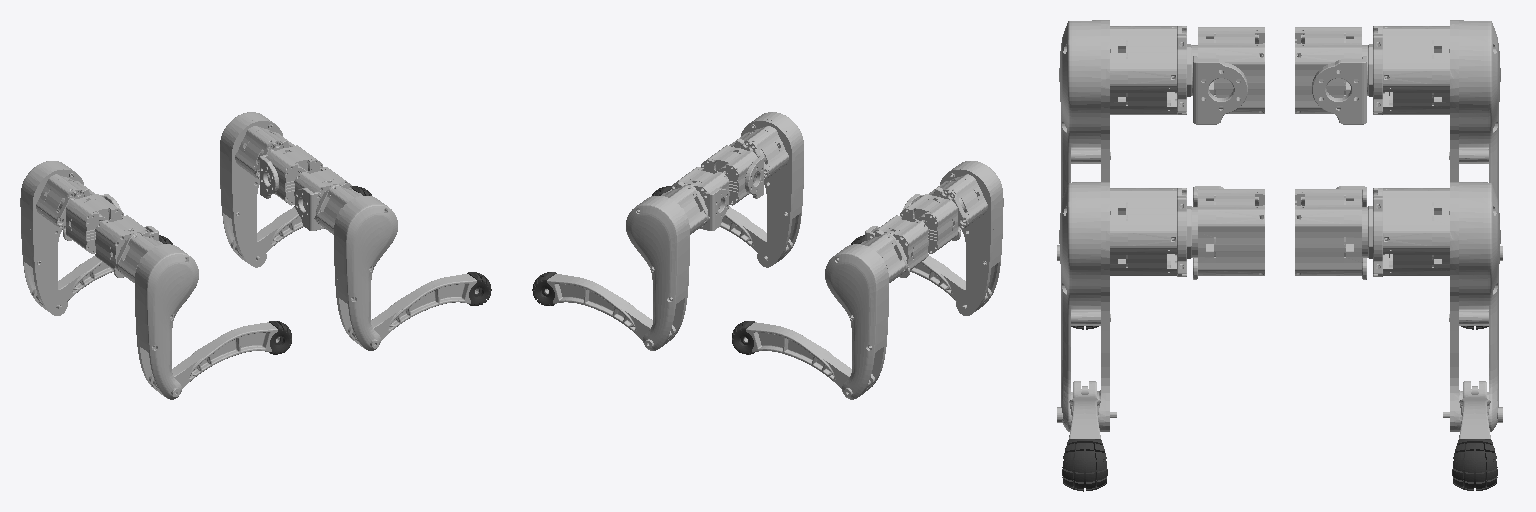
The robot description file, URDF, robot "HTDW_4438":
<?xml version="1.0" encoding="utf-8"?>
 <!-- This URDF was automatically created by SolidWorks to URDF Exporter! Originally created by Stephen Brawner (brawner@gmail.com) 
      Commit Version: 1.6.0-4-g7f85cfe  Build Version: 1.6.7995.38578
      For more information, please see http://wiki.ros.org/sw_urdf_exporter -->
 <robot name="HTDW_4438">
  <mujoco>
    <compiler meshdir="../meshes/" balanceinertia="true" discardvisual="false" />
  </mujoco>

   <link name="base_link">
     <inertial>
       <origin xyz="-0.00150909 -0.00098889 0.00305206" rpy="0 0 0" />
       <mass value="2.38259971" />
       <inertia ixx="0.00432585" ixy="-1.251e-05" ixz="0.00022699" iyy="0.00844472" iyz="2.196e-05" izz="0.00822046" />
     </inertial>
     <visual>
       <origin xyz="0 0 0" rpy="0 0 0" />
       <geometry>
         <mesh filename="../meshes/base_link.STL" />
       </geometry>
       <material name="">
         <color rgba="0.752941176470588 0.752941176470588 0.752941176470588 1" />
       </material>
     </visual>
     <collision>
       <origin xyz="0 0 0" rpy="0 0 0" />
       <geometry>
         <mesh filename="../meshes/base_link.STL" />
       </geometry>
     </collision>
   </link>
   <link name="FL_hip">
     <inertial>
       <origin xyz="-0.00110429 -9.855e-05 -0.000137" rpy="0 0 0" />
       <mass value="0.25169471" />
       <inertia ixx="3.845e-05" ixy="1.34e-06" ixz="-2.6e-07" iyy="4.547e-05" iyz="9.6e-07" izz="4.418e-05" />
     </inertial>
     <visual>
       <origin xyz="0 0 0" rpy="0 0 0" />
       <geometry>
         <mesh filename="../meshes/FL_hip.STL" />
       </geometry>
       <material name="">
         <color rgba="0.752941176470588 0.752941176470588 0.752941176470588 1" />
       </material>
     </visual>
     <collision>
       <origin xyz="0 0 0" rpy="0 0 0" />
       <geometry>
         <mesh filename="../meshes/FL_hip.STL" />
       </geometry>
     </collision>
   </link>
   <joint name="FL_hip_joint" type="revolute">
     <origin xyz="0.11415 0.035 -0.0085" rpy="0 0 0" />
     <parent link="base_link" />
     <child link="FL_hip" />
     <axis xyz="1 0 0" />
     <limit lower="-1.05" upper="1.05" effort="10" velocity="9.5" />
   </joint>
   <link name="FL_thigh">
     <inertial>
       <origin xyz="-0.00114943 -0.02533574 -0.0099421" rpy="0 0 0" />
       <mass value="0.34225574" />
       <inertia ixx="0.00044342" ixy="7.17e-06" ixz="-1.819e-05" iyy="0.0003823" iyz="8.294e-05" izz="0.00013666" />
     </inertial>
     <visual>
       <origin xyz="0 0 0" rpy="0 0 0" />
       <geometry>
         <mesh filename="../meshes/FL_thigh.STL" />
       </geometry>
       <material name="">
         <color rgba="0.752941176470588 0.752941176470588 0.752941176470588 1" />
       </material>
     </visual>
     <collision>
       <origin xyz="0 0 0" rpy="0 0 0" />
       <geometry>
         <mesh filename="../meshes/FL_thigh.STL" />
       </geometry>
     </collision>
   </link>
   <joint name="FL_thigh_joint" type="revolute">
     <origin xyz="0 0.0812 0" rpy="0 0 0" />
     <parent link="FL_hip" />
     <child link="FL_thigh" />
     <axis xyz="0 1 0" />
     <limit lower="-1.57" upper="3.49" effort="10" velocity="9.5" />
   </joint>
   <link name="FL_calf">
     <inertial>
       <origin xyz="0.00873361 1.881e-05 -0.05124231" rpy="0 0 0" />
       <mass value="0.03063479" />
       <inertia ixx="6.529e-05" ixy="0.0" ixz="9.5e-07" iyy="6.662e-05" iyz="-4e-08" izz="2.3e-06" />
     </inertial>
     <visual>
       <origin xyz="0 0 0" rpy="0 0 0" />
       <geometry>
         <mesh filename="../meshes/FL_calf.STL" />
       </geometry>
       <material name="">
         <color rgba="0.752941176470588 0.752941176470588 0.752941176470588 1" />
       </material>
     </visual>
     <collision>
       <origin xyz="0 0 0" rpy="0 0 0" />
       <geometry>
         <mesh filename="../meshes/FL_calf.STL" />
       </geometry>
     </collision>
   </link>
   <joint name="FL_calf_joint" type="revolute">
     <origin xyz="0 0 -0.12" rpy="0 0 0" />
     <parent link="FL_thigh" />
     <child link="FL_calf" />
     <axis xyz="0 1 0" />
     <limit lower="-2.71" upper="-0.84" effort="10" velocity="9.5" />
   </joint>
   <link name="FL_foot">
     <inertial>
       <origin xyz="-0.00180864 0.0 -0.00401616" rpy="0 0 0" />
       <mass value="0.00959044" />
       <inertia ixx="8.2e-07" ixy="0.0" ixz="1.4e-07" iyy="1.06e-06" iyz="0.0" izz="1.03e-06" />
     </inertial>
     <visual>
       <origin xyz="0 0 0" rpy="0 0 0" />
       <geometry>
         <mesh filename="../meshes/FL_foot.STL" />
       </geometry>
       <material name="">
         <color rgba="0.298039215686275 0.298039215686275 0.298039215686275 1" />
       </material>
     </visual>
     <collision>
       <origin xyz="0 0 0" rpy="0 0 0" />
       <geometry>
         <sphere radius="0.01675"/>
       </geometry>
     </collision>
   </link>
   <joint name="FL_foot_joint" type="fixed">
     <origin xyz="0 0 -0.12516" rpy="0 0 0" />
     <parent link="FL_calf" />
     <child link="FL_foot" />
     <axis xyz="0 0 0" />
   </joint>
   <link name="FR_hip">
     <inertial>
       <origin xyz="-0.00127689 9.855e-05 -0.000137" rpy="0 0 0" />
       <mass value="0.25169471" />
       <inertia ixx="3.845e-05" ixy="-1.26e-06" ixz="-6.3e-07" iyy="4.536e-05" iyz="-9.6e-07" izz="4.408e-05" />
     </inertial>
     <visual>
       <origin xyz="0 0 0" rpy="0 0 0" />
       <geometry>
         <mesh filename="../meshes/FR_hip.STL" />
       </geometry>
       <material name="">
         <color rgba="0.752941176470588 0.752941176470588 0.752941176470588 1" />
       </material>
     </visual>
     <collision>
       <origin xyz="0 0 0" rpy="0 0 0" />
       <geometry>
         <mesh filename="../meshes/FR_hip.STL" />
       </geometry>
     </collision>
   </link>
   <joint name="FR_hip_joint" type="revolute">
     <origin xyz="0.11415 -0.035 -0.0085" rpy="0 0 0" />
     <parent link="base_link" />
     <child link="FR_hip" />
     <axis xyz="1 0 0" />
     <limit lower="-1.05" upper="1.05" effort="10" velocity="9.5" />
   </joint>
   <link name="FR_thigh">
     <inertial>
       <origin xyz="-0.00124929 0.02533762 -0.01012479" rpy="0 0 0" />
       <mass value="0.34223842" />
       <inertia ixx="0.00044215" ixy="-7.36e-06" ixz="-1.777e-05" iyy="0.00038093" iyz="-8.33e-05" izz="0.0001365" />
     </inertial>
     <visual>
       <origin xyz="0 0 0" rpy="0 0 0" />
       <geometry>
         <mesh filename="../meshes/FR_thigh.STL" />
       </geometry>
       <material name="">
         <color rgba="0.752941176470588 0.752941176470588 0.752941176470588 1" />
       </material>
     </visual>
     <collision>
       <origin xyz="0 0 0" rpy="0 0 0" />
       <geometry>
         <mesh filename="../meshes/FR_thigh.STL" />
       </geometry>
     </collision>
   </link>
   <joint name="FR_thigh_joint" type="revolute">
     <origin xyz="0 -0.0812 0" rpy="0 0 0" />
     <parent link="FR_hip" />
     <child link="FR_thigh" />
     <axis xyz="0 1 0" />
     <limit lower="-1.57" upper="3.49" effort="10" velocity="9.5" />
   </joint>
   <link name="FR_calf">
     <inertial>
       <origin xyz="0.00873361 -2.058e-05 -0.05124231" rpy="0 0 0" />
       <mass value="0.03063479" />
       <inertia ixx="6.529e-05" ixy="0.0" ixz="9.5e-07" iyy="6.662e-05" iyz="4e-08" izz="2.3e-06" />
     </inertial>
     <visual>
       <origin xyz="0 0 0" rpy="0 0 0" />
       <geometry>
         <mesh filename="../meshes/FR_calf.STL" />
       </geometry>
       <material name="">
         <color rgba="0.752941176470588 0.752941176470588 0.752941176470588 1" />
       </material>
     </visual>
     <collision>
       <origin xyz="0 0 0" rpy="0 0 0" />
       <geometry>
         <mesh filename="../meshes/FR_calf.STL" />
       </geometry>
     </collision>
   </link>
   <joint name="FR_calf_joint" type="revolute">
     <origin xyz="0 0 -0.12" rpy="0 0 0" />
     <parent link="FR_thigh" />
     <child link="FR_calf" />
     <axis xyz="0 1 0" />
     <limit lower="-2.71" upper="-0.84" effort="10" velocity="9.5" />
   </joint>
   <link name="FR_foot">
     <inertial>
       <origin xyz="-0.00180864 0.0 -0.00401616" rpy="0 0 0" />
       <mass value="0.00959044" />
       <inertia ixx="8.2e-07" ixy="0.0" ixz="1.4e-07" iyy="1.06e-06" iyz="0.0" izz="1.03e-06" />
     </inertial>
     <visual>
       <origin xyz="0 0 0" rpy="0 0 0" />
       <geometry>
         <mesh filename="../meshes/FR_foot.STL" />
       </geometry>
       <material name="">
         <color rgba="0.298039215686275 0.298039215686275 0.298039215686275 1" />
       </material>
     </visual>
     <collision>
       <origin xyz="0 0 0" rpy="0 0 0" />
       <geometry>
         <sphere radius="0.01675"/>
       </geometry>
     </collision>
   </link>
   <joint name="FR_foot_joint" type="fixed">
     <origin xyz="0 0 -0.12516" rpy="0 0 0" />
     <parent link="FR_calf" />
     <child link="FR_foot" />
     <axis xyz="0 0 0" />
   </joint>
   <link name="RL_hip">
     <inertial>
       <origin xyz="0.00127689 -9.855e-05 -0.000137" rpy="0 0 0" />
       <mass value="0.25169471" />
       <inertia ixx="3.845e-05" ixy="-1.26e-06" ixz="6.3e-07" iyy="4.536e-05" iyz="9.6e-07" izz="4.408e-05" />
     </inertial>
     <visual>
       <origin xyz="0 0 0" rpy="0 0 0" />
       <geometry>
         <mesh filename="../meshes/RL_hip.STL" />
       </geometry>
       <material name="">
         <color rgba="0.752941176470588 0.752941176470588 0.752941176470588 1" />
       </material>
     </visual>
     <collision>
       <origin xyz="0 0 0" rpy="0 0 0" />
       <geometry>
         <mesh filename="../meshes/RL_hip.STL" />
       </geometry>
     </collision>
   </link>
   <joint name="RL_hip_joint" type="revolute">
     <origin xyz="-0.11415 0.035 -0.0085" rpy="0 0 0" />
     <parent link="base_link" />
     <child link="RL_hip" />
     <axis xyz="1 0 0" />
     <limit lower="-1.05" upper="1.05" effort="10" velocity="9.5" />
   </joint>
   <link name="RL_thigh">
     <inertial>
       <origin xyz="-0.00114943 -0.02533574 -0.0099421" rpy="0 0 0" />
       <mass value="0.34225574" />
       <inertia ixx="0.00044342" ixy="7.17e-06" ixz="-1.819e-05" iyy="0.0003823" iyz="8.294e-05" izz="0.00013666" />
     </inertial>
     <visual>
       <origin xyz="0 0 0" rpy="0 0 0" />
       <geometry>
         <mesh filename="../meshes/RL_thigh.STL" />
       </geometry>
       <material name="">
         <color rgba="0.752941176470588 0.752941176470588 0.752941176470588 1" />
       </material>
     </visual>
     <collision>
       <origin xyz="0 0 0" rpy="0 0 0" />
       <geometry>
         <mesh filename="../meshes/RL_thigh.STL" />
       </geometry>
     </collision>
   </link>
   <joint name="RL_thigh_joint" type="revolute">
     <origin xyz="0 0.0812 0" rpy="0 0 0" />
     <parent link="RL_hip" />
     <child link="RL_thigh" />
     <axis xyz="0 1 0" />
     <limit lower="-1.57" upper="3.49" effort="10" velocity="9.5" />
   </joint>
   <link name="RL_calf">
     <inertial>
       <origin xyz="0.00873361 1.881e-05 -0.05124231" rpy="0 0 0" />
       <mass value="0.03063479" />
       <inertia ixx="6.529e-05" ixy="0.0" ixz="9.5e-07" iyy="6.662e-05" iyz="-4e-08" izz="2.3e-06" />
     </inertial>
     <visual>
       <origin xyz="0 0 0" rpy="0 0 0" />
       <geometry>
         <mesh filename="../meshes/RL_calf.STL" />
       </geometry>
       <material name="">
         <color rgba="0.752941176470588 0.752941176470588 0.752941176470588 1" />
       </material>
     </visual>
     <collision>
       <origin xyz="0 0 0" rpy="0 0 0" />
       <geometry>
         <mesh filename="../meshes/RL_calf.STL" />
       </geometry>
     </collision>
   </link>
   <joint name="RL_calf_joint" type="revolute">
     <origin xyz="0 0 -0.12" rpy="0 0 0" />
     <parent link="RL_thigh" />
     <child link="RL_calf" />
     <axis xyz="0 1 0" />
     <limit lower="-2.71" upper="-0.84" effort="10" velocity="9.5" />
   </joint>
   <link name="RL_foot">
     <inertial>
       <origin xyz="-0.00180864 0.0 -0.00401616" rpy="0 0 0" />
       <mass value="0.00959044" />
       <inertia ixx="8.2e-07" ixy="0.0" ixz="1.4e-07" iyy="1.06e-06" iyz="0.0" izz="1.03e-06" />
     </inertial>
     <visual>
       <origin xyz="0 0 0" rpy="0 0 0" />
       <geometry>
         <mesh filename="../meshes/RL_foot.STL" />
       </geometry>
       <material name="">
         <color rgba="0.298039215686275 0.298039215686275 0.298039215686275 1" />
       </material>
     </visual>
     <collision>
       <origin xyz="0 0 0" rpy="0 0 0" />
       <geometry>
         <sphere radius="0.01675"/>
       </geometry>
     </collision>
   </link>
   <joint name="RL_foot_joint" type="fixed">
     <origin xyz="0 0 -0.12516" rpy="0 0 0" />
     <parent link="RL_calf" />
     <child link="RL_foot" />
     <axis xyz="0 0 0" />
   </joint>
   <link name="RR_hip">
     <inertial>
       <origin xyz="0.00110429 9.855e-05 -0.000137" rpy="0 0 0" />
       <mass value="0.25169471" />
       <inertia ixx="3.845e-05" ixy="1.34e-06" ixz="2.6e-07" iyy="4.547e-05" iyz="-9.6e-07" izz="4.418e-05" />
     </inertial>
     <visual>
       <origin xyz="0 0 0" rpy="0 0 0" />
       <geometry>
         <mesh filename="../meshes/RR_hip.STL" />
       </geometry>
       <material name="">
         <color rgba="0.752941176470588 0.752941176470588 0.752941176470588 1" />
       </material>
     </visual>
     <collision>
       <origin xyz="0 0 0" rpy="0 0 0" />
       <geometry>
         <mesh filename="../meshes/RR_hip.STL" />
       </geometry>
     </collision>
   </link>
   <joint name="RR_hip_joint" type="revolute">
     <origin xyz="-0.11415 -0.035 -0.0085" rpy="0 0 0" />
     <parent link="base_link" />
     <child link="RR_hip" />
     <axis xyz="1 0 0" />
     <limit lower="-1.05" upper="1.05" effort="10" velocity="9.5" />
   </joint>
   <link name="RR_thigh">
     <inertial>
       <origin xyz="-0.00124929 0.02533762 -0.01012479" rpy="0 0 0" />
       <mass value="0.34223842" />
       <inertia ixx="0.00044215" ixy="-7.36e-06" ixz="-1.777e-05" iyy="0.00038093" iyz="-8.33e-05" izz="0.0001365" />
     </inertial>
     <visual>
       <origin xyz="0 0 0" rpy="0 0 0" />
       <geometry>
         <mesh filename="../meshes/RR_thigh.STL" />
       </geometry>
       <material name="">
         <color rgba="0.752941176470588 0.752941176470588 0.752941176470588 1" />
       </material>
     </visual>
     <collision>
       <origin xyz="0 0 0" rpy="0 0 0" />
       <geometry>
         <mesh filename="../meshes/RR_thigh.STL" />
       </geometry>
     </collision>
   </link>
   <joint name="RR_thigh_joint" type="revolute">
     <origin xyz="0 -0.0812 0" rpy="0 0 0" />
     <parent link="RR_hip" />
     <child link="RR_thigh" />
     <axis xyz="0 1 0" />
     <limit lower="-1.57" upper="3.49" effort="10" velocity="9.5" />
   </joint>
   <link name="RR_calf">
     <inertial>
       <origin xyz="0.00873361 -2.058e-05 -0.05124231" rpy="0 0 0" />
       <mass value="0.03063479" />
       <inertia ixx="6.529e-05" ixy="0.0" ixz="9.5e-07" iyy="6.662e-05" iyz="4e-08" izz="2.3e-06" />
     </inertial>
     <visual>
       <origin xyz="0 0 0" rpy="0 0 0" />
       <geometry>
         <mesh filename="../meshes/RR_calf.STL" />
       </geometry>
       <material name="">
         <color rgba="0.752941176470588 0.752941176470588 0.752941176470588 1" />
       </material>
     </visual>
     <collision>
       <origin xyz="0 0 0" rpy="0 0 0" />
       <geometry>
         <mesh filename="../meshes/RR_calf.STL" />
       </geometry>
     </collision>
   </link>
   <joint name="RR_calf_joint" type="revolute">
     <origin xyz="0 0 -0.12" rpy="0 0 0" />
     <parent link="RR_thigh" />
     <child link="RR_calf" />
     <axis xyz="0 1 0" />
     <limit lower="-2.71" upper="-0.84" effort="10" velocity="9.5" />
   </joint>
   <link name="RR_foot">
     <inertial>
       <origin xyz="-0.00180864 0.0 -0.00401616" rpy="0 0 0" />
       <mass value="0.00959044" />
       <inertia ixx="8.2e-07" ixy="0.0" ixz="1.4e-07" iyy="1.06e-06" iyz="0.0" izz="1.03e-06" />
     </inertial>
     <visual>
       <origin xyz="0 0 0" rpy="0 0 0" />
       <geometry>
         <mesh filename="../meshes/RR_foot.STL" />
       </geometry>
       <material name="">
         <color rgba="0.298039215686275 0.298039215686275 0.298039215686275 1" />
       </material>
     </visual>
     <collision>
       <origin xyz="0 0 0" rpy="0 0 0" />
       <geometry>
         <sphere radius="0.01675"/>
       </geometry>
     </collision>
   </link>
   <joint name="RR_foot_joint" type="fixed">
     <origin xyz="0 0 -0.12516" rpy="0 0 0" />
     <parent link="RR_calf" />
     <child link="RR_foot" />
     <axis xyz="0 0 0" />
   </joint>
 </robot>

--- Facts derived from the render (not from the file) ---
The picture shows the robot from 3 angles, left to right: view 1: azimuth 30°, elevation 25°; view 2: azimuth 150°, elevation 25°; view 3: azimuth 270°, elevation 25°; orthographic projection.
Robot: HTDW_4438 — 17 links, 16 joints (12 revolute, 4 fixed); root link base_link; default pose: all joints at 0 but 4 set to mid-range because 0 is outside their limits (FL_calf_joint = -1.77, FR_calf_joint = -1.77, RL_calf_joint = -1.77, RR_calf_joint = -1.77).
Visible links, largest first — view 1: RR_thigh, FR_thigh, RL_thigh, FL_thigh, FR_calf, RR_calf, FL_hip, RL_hip, FR_hip, RR_hip, RL_calf, FL_calf (+2 smaller); view 2: RL_thigh, FL_thigh, RR_thigh, FR_thigh, FL_calf, RL_calf, FR_hip, RR_hip, FL_hip, RL_hip, RR_calf, FR_calf (+2 smaller); view 3: FL_thigh, FR_thigh, RR_thigh, RL_thigh, RL_hip, RR_hip, FL_hip, FR_hip, FR_foot, FL_foot, FL_calf, FR_calf.
Link boxes in pixels (x1,y1,x2,y2): RR_thigh: (115, 230, 198, 399); FR_thigh: (314, 181, 397, 350); RL_thigh: (20, 161, 94, 315); FL_thigh: (220, 112, 294, 267); FR_calf: (348, 274, 478, 346); RR_calf: (149, 322, 279, 396); FL_hip: (260, 145, 322, 205); RL_hip: (63, 194, 123, 253); FR_hip: (294, 167, 351, 230); RR_hip: (95, 215, 158, 277); RL_calf: (32, 256, 113, 309); FL_calf: (231, 189, 355, 261); RL_thigh: (825, 230, 908, 399); FL_thigh: (626, 181, 709, 350); RR_thigh: (929, 161, 1003, 315); FR_thigh: (729, 112, 803, 267); FL_calf: (545, 274, 675, 346); RL_calf: (744, 322, 874, 396); FR_hip: (701, 145, 763, 205); RR_hip: (900, 194, 960, 253); FL_hip: (672, 167, 729, 230); RL_hip: (865, 215, 928, 277); RR_calf: (910, 256, 991, 309); FR_calf: (668, 189, 792, 261); FL_thigh: (1368, 182, 1502, 431); FR_thigh: (1057, 182, 1191, 431); RR_thigh: (1057, 20, 1191, 260); RL_thigh: (1368, 20, 1502, 260); RL_hip: (1295, 27, 1367, 124); RR_hip: (1192, 27, 1264, 124); FL_hip: (1295, 186, 1367, 279); FR_hip: (1192, 186, 1264, 279); FR_foot: (1062, 439, 1107, 491); FL_foot: (1452, 439, 1497, 490); FL_calf: (1459, 381, 1490, 438); FR_calf: (1069, 381, 1100, 438).
Bounding box of the posed robot: 0.3976 × 0.266 × 0.1602 m (x, y, z).
Meshes: 17 distinct files referenced, 16 mesh visuals loaded (16 binary STL); not drawn: 1 (reference not matched to a file when rendering).
